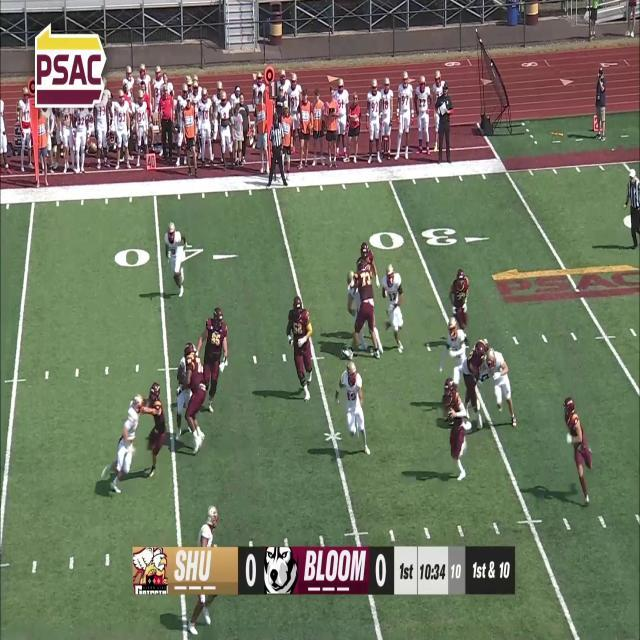football: (448, 409, 455, 428)
